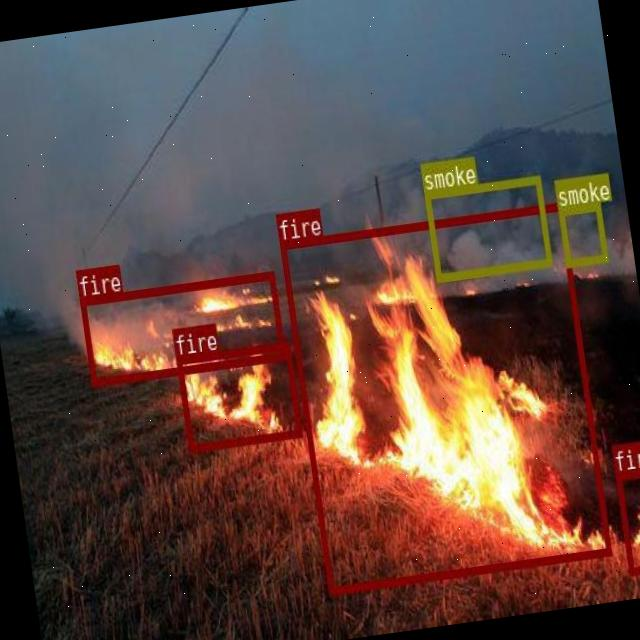fire: (279, 202, 612, 594), (78, 270, 284, 386), (176, 339, 300, 452), (615, 465, 640, 573)
smoke: (424, 175, 552, 280), (558, 202, 608, 265)
